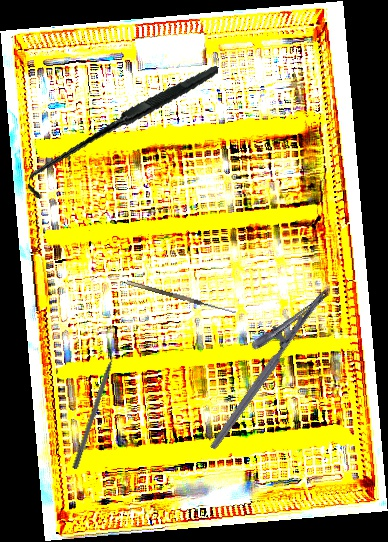Hook Surgical: (26, 37, 219, 226), (125, 274, 239, 316)
Needle Holder: (188, 273, 331, 451)
Pusher: (71, 341, 123, 470)
